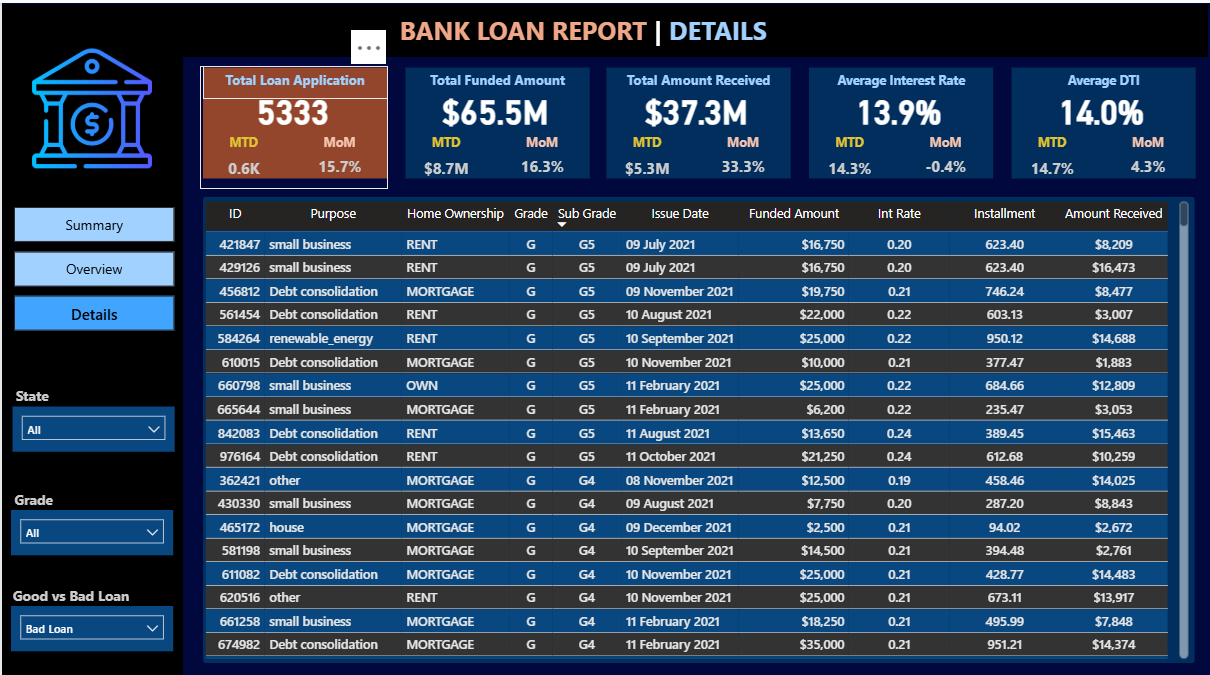

The page's visual inventory and layout, read from the dashboard file:
{"tool":"powerbi","page":{"name":"Details","canvas":[1280,720],"ordinal":2},"visuals":[{"type":"shape","box":[0,1.6,1278.9,55.7],"z":0},{"type":"shape","box":[0,54.8,192,665.2],"z":1000},{"type":"textbox","box":[416.7,5,446.7,50],"z":2000},{"type":"group","id":"g1","title":"Group 1","box":[210,66.2,198.8,130.4],"z":3000},{"type":"shape","box":[213.2,67.8,195.6,117.7],"z":3000,"group":"g1"},{"type":"shape","box":[427.9,67.8,195.6,117.7],"z":3000,"group":"g2"},{"type":"shape","box":[641,67.8,195.6,117.7],"z":3000,"group":"g3"},{"type":"shape","box":[855.8,67.8,195.6,117.7],"z":3000,"group":"g4"},{"type":"shape","box":[1070.5,67.8,195.6,117.7],"z":3000,"group":"g5"},{"type":"group","id":"g2","title":"Group 1","box":[424.7,66.2,197.2,130.4],"z":4000},{"type":"card","fields":{"Values":["bank_loan_data.Total Loan Application"]},"box":[210,74.2,195.6,74.8],"z":4000,"group":"g1"},{"type":"card","fields":{"Values":["bank_loan_data.Total Funded Amount"]},"box":[424.7,74.2,195.6,74.8],"z":4000,"group":"g2"},{"type":"card","fields":{"Values":["bank_loan_data.Total Amount Received"]},"box":[637.8,74.2,195.6,74.8],"z":4000,"group":"g3"},{"type":"card","fields":{"Values":["bank_loan_data.Avg Interest Rate"]},"box":[852.6,74.2,195.6,74.8],"z":4000,"group":"g4"},{"type":"card","fields":{"Values":["bank_loan_data.Avg DTI"]},"box":[1067.3,74.2,195.6,74.8],"z":4000,"group":"g5"},{"type":"textbox","box":[213.2,66.2,195.6,35],"z":5000,"group":"g1"},{"type":"textbox","box":[427.9,66.2,195.6,35],"z":5000,"group":"g2"},{"type":"textbox","box":[641,66.2,195.6,35],"z":5000,"group":"g3"},{"type":"textbox","box":[855.8,66.2,195.6,35],"z":5000,"group":"g4"},{"type":"textbox","box":[1070.5,66.2,195.6,35],"z":5000,"group":"g5"},{"type":"shape","box":[213.3,205,1051.7,495],"z":5000},{"type":"group","id":"g3","title":"Group 1","box":[637.8,66.2,198.8,130.4],"z":6000},{"type":"card","title":"MTD","fields":{"Values":["bank_loan_data.MTD Loan Application"]},"box":[218,137.8,76.3,58.9],"z":6000,"group":"g1"},{"type":"card","title":"MTD","fields":{"Values":["bank_loan_data.MTD Funded Amount"]},"box":[432.7,137.8,76.3,58.9],"z":6000,"group":"g2"},{"type":"card","title":"MTD","fields":{"Values":["bank_loan_data.MTD Total Amount Recieved"]},"box":[645.8,137.8,76.3,58.9],"z":6000,"group":"g3"},{"type":"card","title":"MTD","fields":{"Values":["bank_loan_data.MTD Avg Int Rate"]},"box":[860.6,137.8,76.3,58.9],"z":6000,"group":"g4"},{"type":"card","title":"MTD","fields":{"Values":["bank_loan_data.MTD Avg DTI"]},"box":[1075.3,137.8,76.3,58.9],"z":6000,"group":"g5"},{"type":"group","id":"g4","title":"Group 1","box":[852.6,66.2,198.8,130.4],"z":7000},{"type":"card","title":"MoM","fields":{"Values":["bank_loan_data.MoM Loan Application"]},"box":[319.8,137.8,76.3,55.7],"z":7000,"group":"g1"},{"type":"card","title":"MoM","fields":{"Values":["bank_loan_data.MoM Total Funded Amount"]},"box":[534.5,137.8,76.3,55.7],"z":7000,"group":"g2"},{"type":"card","title":"MoM","fields":{"Values":["bank_loan_data.MoM Total Amount Recieved"]},"box":[747.6,137.8,76.3,55.7],"z":7000,"group":"g3"},{"type":"card","title":"MoM","fields":{"Values":["bank_loan_data.MoM Avg Int Rate"]},"box":[962.4,137.8,76.3,55.7],"z":7000,"group":"g4"},{"type":"card","title":"MoM","fields":{"Values":["bank_loan_data.MoM Avg DTI"]},"box":[1177.1,137.8,76.3,55.7],"z":7000,"group":"g5"},{"type":"group","id":"g5","title":"Group 1","box":[1067.3,66.2,197.2,130.4],"z":8000},{"type":"slicer","fields":{"Values":["bank_loan_data.address_state"]},"box":[11.1,428.3,171.8,47.7],"z":9000},{"type":"textbox","box":[9.5,400.8,60.4,31.8],"z":10000},{"type":"slicer","fields":{"Values":["bank_loan_data.grade"]},"box":[9.5,536.8,171.8,47.7],"z":11000},{"type":"textbox","box":[8,510.6,60.4,31.8],"z":12000},{"type":"slicer","fields":{"Values":["bank_loan_data.Good vs Bad Loan"]},"box":[9.5,639.8,171.8,47.7],"z":13000},{"type":"textbox","box":[6.4,612.4,141.6,31.8],"z":14000},{"type":"tableEx","fields":{"Values":["bank_loan_data.id","bank_loan_data.purpose","bank_loan_data.home_ownership","bank_loan_data.grade","bank_loan_data.sub_grade","bank_loan_data.issue_date","bank_loan_data.Total Funded Amount","Sum(bank_loan_data.int_rate)","Sum(bank_loan_data.installment)","bank_loan_data.Total Amount Received"]},"box":[210,205.2,1053,494.7],"z":17000},{"type":"pageNavigator","box":[12.7,216.3,170.2,132],"z":18000},{"type":"image","box":[17.5,31.8,155.9,160.7],"z":19000}]}

Visuals, with their boxes in screenshot pixels (x1, y1, x2, y2), scaled from the page's 1280x720 canvas onto the 1210x675 screenshot:
shape: {"left": 0, "top": 2, "right": 1209, "bottom": 54}
shape: {"left": 0, "top": 51, "right": 182, "bottom": 674}
textbox: {"left": 394, "top": 5, "right": 816, "bottom": 52}
"Group 1" group: {"left": 199, "top": 62, "right": 386, "bottom": 184}
shape: {"left": 202, "top": 64, "right": 386, "bottom": 174}
shape: {"left": 404, "top": 64, "right": 589, "bottom": 174}
shape: {"left": 606, "top": 64, "right": 791, "bottom": 174}
shape: {"left": 809, "top": 64, "right": 994, "bottom": 174}
shape: {"left": 1012, "top": 64, "right": 1197, "bottom": 174}
"Group 1" group: {"left": 401, "top": 62, "right": 588, "bottom": 184}
card - bank_loan_data.Total Loan Application: {"left": 199, "top": 70, "right": 383, "bottom": 140}
card - bank_loan_data.Total Funded Amount: {"left": 401, "top": 70, "right": 586, "bottom": 140}
card - bank_loan_data.Total Amount Received: {"left": 603, "top": 70, "right": 788, "bottom": 140}
card - bank_loan_data.Avg Interest Rate: {"left": 806, "top": 70, "right": 991, "bottom": 140}
card - bank_loan_data.Avg DTI: {"left": 1009, "top": 70, "right": 1194, "bottom": 140}
textbox: {"left": 202, "top": 62, "right": 386, "bottom": 95}
textbox: {"left": 404, "top": 62, "right": 589, "bottom": 95}
textbox: {"left": 606, "top": 62, "right": 791, "bottom": 95}
textbox: {"left": 809, "top": 62, "right": 994, "bottom": 95}
textbox: {"left": 1012, "top": 62, "right": 1197, "bottom": 95}
shape: {"left": 202, "top": 192, "right": 1196, "bottom": 656}
"Group 1" group: {"left": 603, "top": 62, "right": 791, "bottom": 184}
"MTD" card: {"left": 206, "top": 129, "right": 278, "bottom": 184}
"MTD" card: {"left": 409, "top": 129, "right": 481, "bottom": 184}
"MTD" card: {"left": 610, "top": 129, "right": 683, "bottom": 184}
"MTD" card: {"left": 814, "top": 129, "right": 886, "bottom": 184}
"MTD" card: {"left": 1016, "top": 129, "right": 1089, "bottom": 184}
"Group 1" group: {"left": 806, "top": 62, "right": 994, "bottom": 184}
"MoM" card: {"left": 302, "top": 129, "right": 374, "bottom": 181}
"MoM" card: {"left": 505, "top": 129, "right": 577, "bottom": 181}
"MoM" card: {"left": 707, "top": 129, "right": 779, "bottom": 181}
"MoM" card: {"left": 910, "top": 129, "right": 982, "bottom": 181}
"MoM" card: {"left": 1113, "top": 129, "right": 1185, "bottom": 181}
"Group 1" group: {"left": 1009, "top": 62, "right": 1195, "bottom": 184}
slicer - bank_loan_data.address_state: {"left": 10, "top": 402, "right": 173, "bottom": 446}
textbox: {"left": 9, "top": 376, "right": 66, "bottom": 406}
slicer - bank_loan_data.grade: {"left": 9, "top": 503, "right": 171, "bottom": 548}
textbox: {"left": 8, "top": 479, "right": 65, "bottom": 508}
slicer - bank_loan_data.Good vs Bad Loan: {"left": 9, "top": 600, "right": 171, "bottom": 645}
textbox: {"left": 6, "top": 574, "right": 140, "bottom": 604}
tableEx - bank_loan_data.id x bank_loan_data.purpose: {"left": 199, "top": 192, "right": 1194, "bottom": 656}
pageNavigator: {"left": 12, "top": 203, "right": 173, "bottom": 327}
image: {"left": 17, "top": 30, "right": 164, "bottom": 180}
